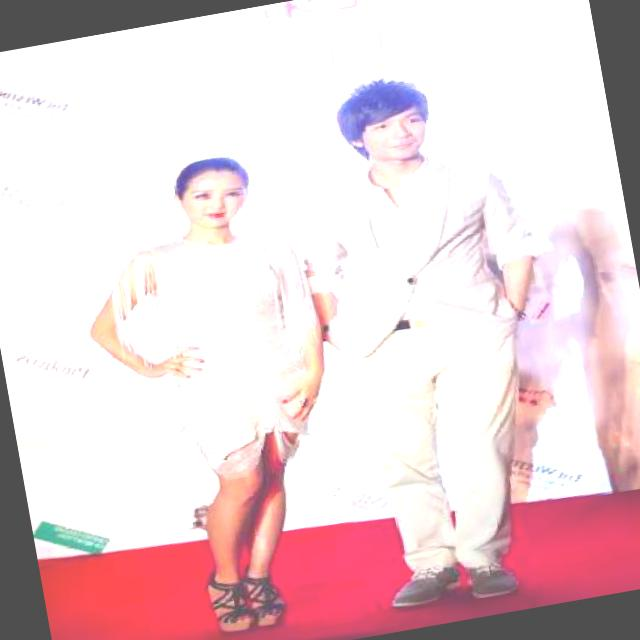Person: (274, 35, 620, 635), (52, 135, 375, 640)
